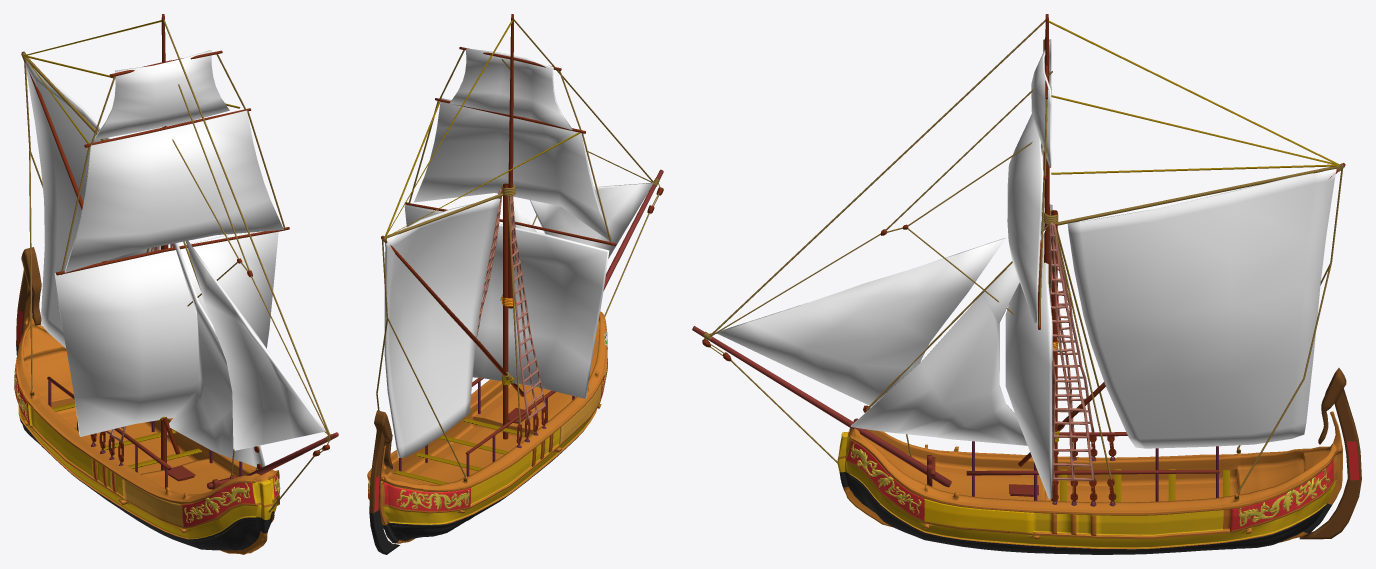
The model's file is barco-original.glb.
The picture shows the model from 3 angles, left to right: view 1: azimuth 30°, elevation 25°; view 2: azimuth 150°, elevation 25°; view 3: azimuth 270°, elevation 25°; orthographic projection. The views are drawn at different scales.
Parts seen in each view (by area): view 1: Plane.002, Cube, Plane, Plane.003, Cylinder.004, Plane.001, Cylinder.001, Cube.001, Cube.011, Plane.010, Cube.024, Cube.026 (+5 smaller); view 2: Cylinder.004, Cube, Plane.002, Plane, Plane.001, Plane.003, Cylinder.001, Plane.004, Cube.001, Cylinder.005, Cube.024, Cube.026 (+8 smaller); view 3: Cylinder.004, Cube, Plane.003, Plane.002, Plane, Plane.004, Cube.001, Cube.024, Cylinder, Plane.001, Cylinder.001, Cylinder.009 (+8 smaller).
Boxes of the visible parts, x1,y1,x2,y2 form: Plane.002: [54, 231, 278, 436]; Cube: [14, 293, 279, 554]; Plane: [65, 110, 283, 272]; Plane.003: [169, 240, 325, 467]; Cylinder.004: [25, 59, 160, 348]; Plane.001: [94, 50, 229, 139]; Cylinder.001: [21, 14, 289, 454]; Cube.001: [16, 247, 41, 355]; Cube.011: [163, 19, 329, 434]; Plane.010: [184, 475, 280, 522]; Cube.024: [23, 20, 240, 143]; Cube.026: [52, 402, 201, 469]; Cylinder.004: [384, 198, 500, 457]; Cube: [367, 311, 607, 543]; Plane.002: [404, 204, 609, 398]; Plane: [414, 98, 611, 241]; Plane.001: [449, 48, 572, 130]; Plane.003: [510, 182, 653, 385]; Cylinder.001: [381, 14, 616, 396]; Plane.004: [476, 189, 545, 420]; Cube.001: [369, 410, 399, 554]; Cylinder.005: [503, 183, 508, 439]; Cube.024: [384, 20, 580, 237]; Cube.026: [394, 418, 531, 484]; Cylinder.004: [1067, 169, 1336, 448]; Cube: [837, 411, 1342, 554]; Plane.003: [717, 230, 1045, 445]; Plane.002: [1005, 204, 1052, 499]; Plane: [1007, 114, 1043, 322]; Plane.004: [1048, 222, 1094, 480]; Cube.001: [1299, 368, 1361, 539]; Cube.024: [1048, 20, 1339, 174]; Cylinder: [692, 326, 951, 487]; Plane.001: [1031, 39, 1051, 167]; Cylinder.001: [1018, 14, 1345, 466]; Cylinder.009: [966, 432, 1219, 475].
Bounding box in the file's own units: 3.1 × 6.45 × 7.38.
Materials: 11 (3 with a texture image).
